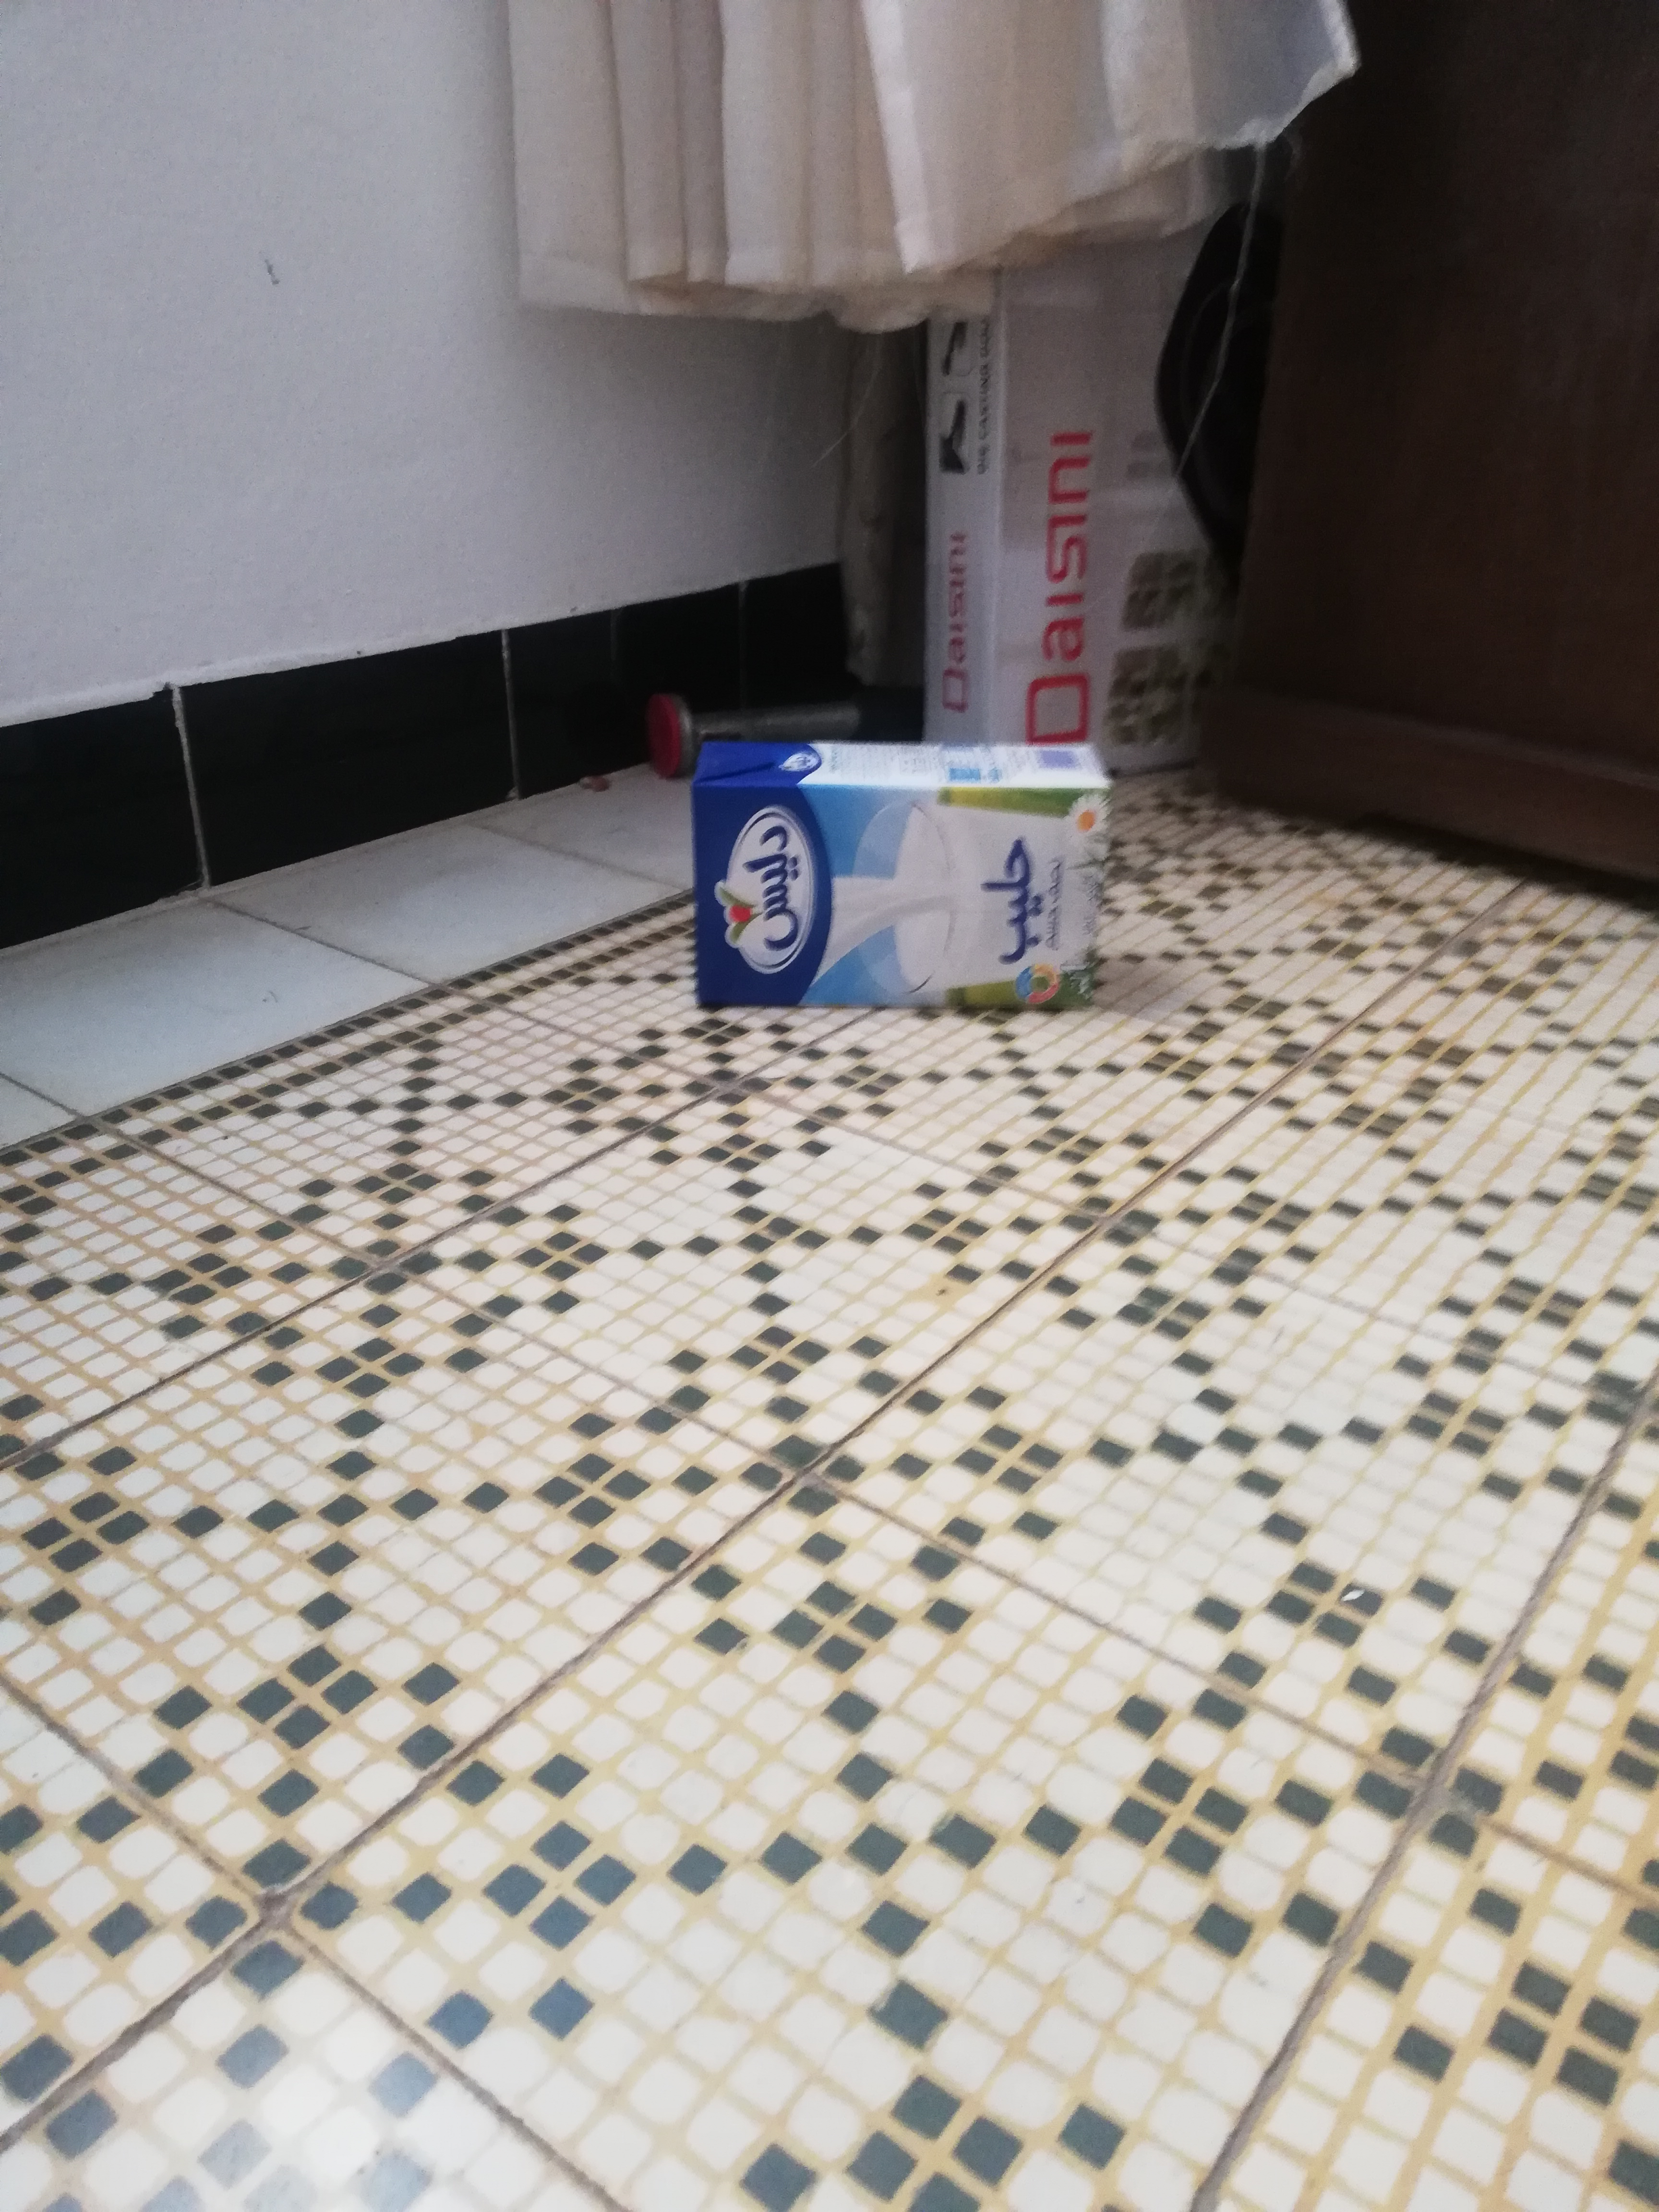Lait delice: (688, 742, 1107, 1014)
